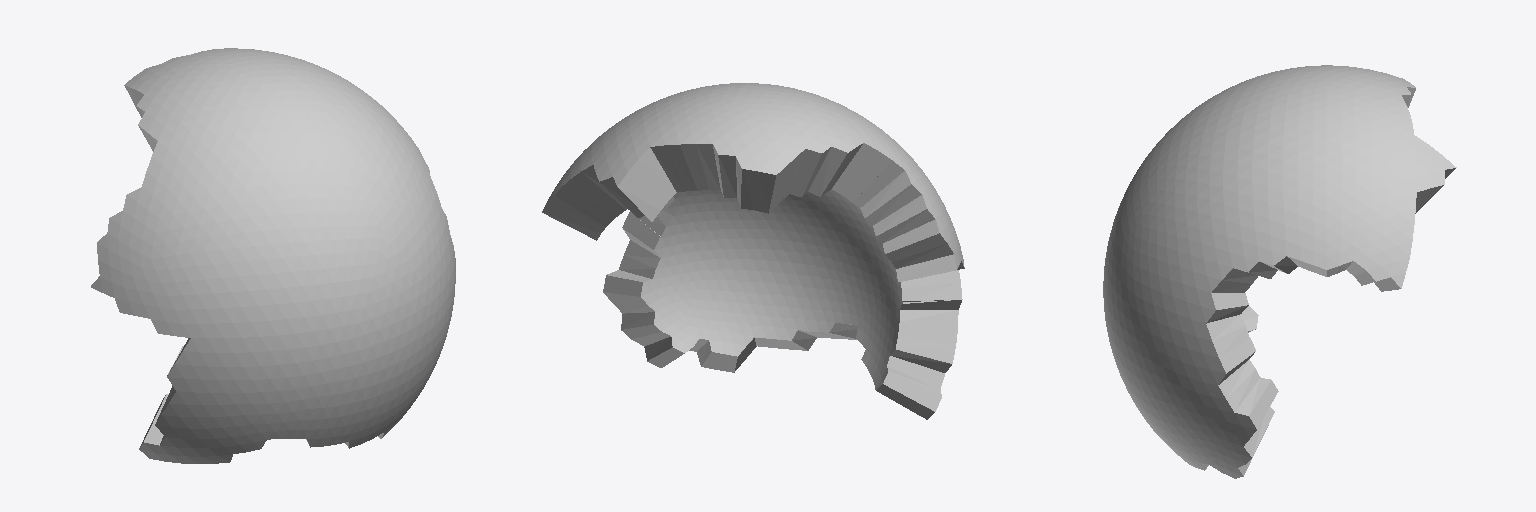
The model's file is clouds_11.obj.
3 renders of one model, left to right at view 1: azimuth 30°, elevation 25°; view 2: azimuth 150°, elevation 25°; view 3: azimuth 270°, elevation 25°, orthographic.
Visible parts, largest first — view 1: Icosphere.036; view 2: Icosphere.036; view 3: Icosphere.036.
Boxes of the visible parts, x1,y1,x2,y2 form: Icosphere.036: [91, 48, 455, 463]; Icosphere.036: [542, 83, 964, 419]; Icosphere.036: [1103, 65, 1456, 478].
Bounding box in the file's own units: 19.8 × 18.09 × 17.09.